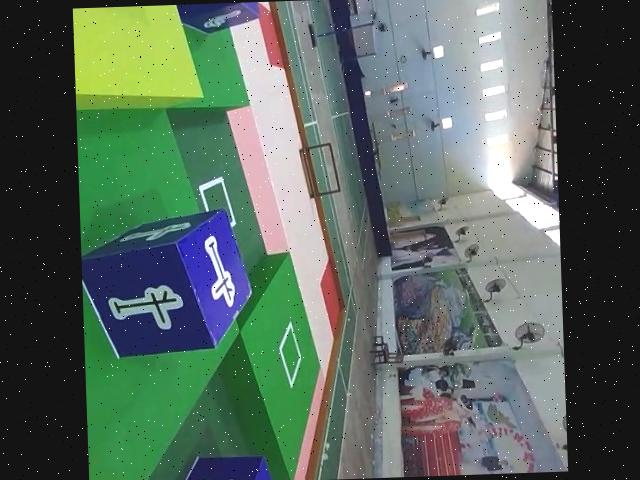R2 Real Blue: (79, 206, 255, 356), (159, 2, 260, 38), (153, 452, 279, 480)
